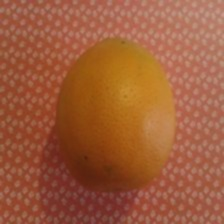orange: (0, 10, 200, 187)
